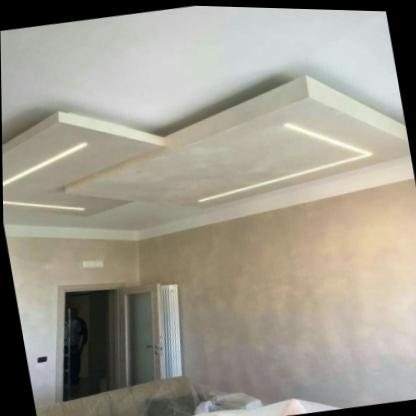Gypsum Board: (1, 50, 416, 267)
